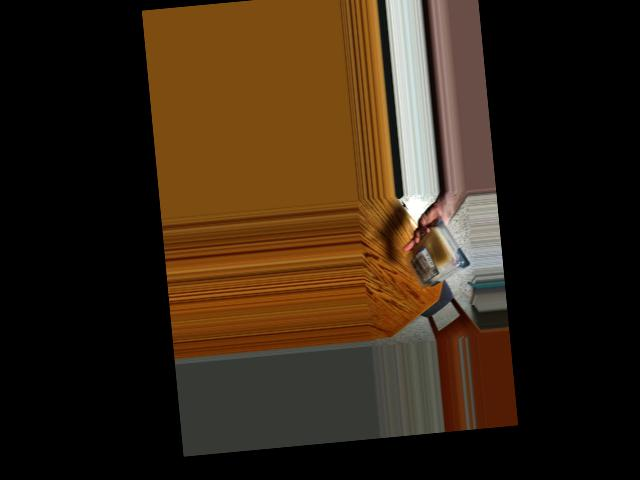cheese: (404, 221, 464, 293)
